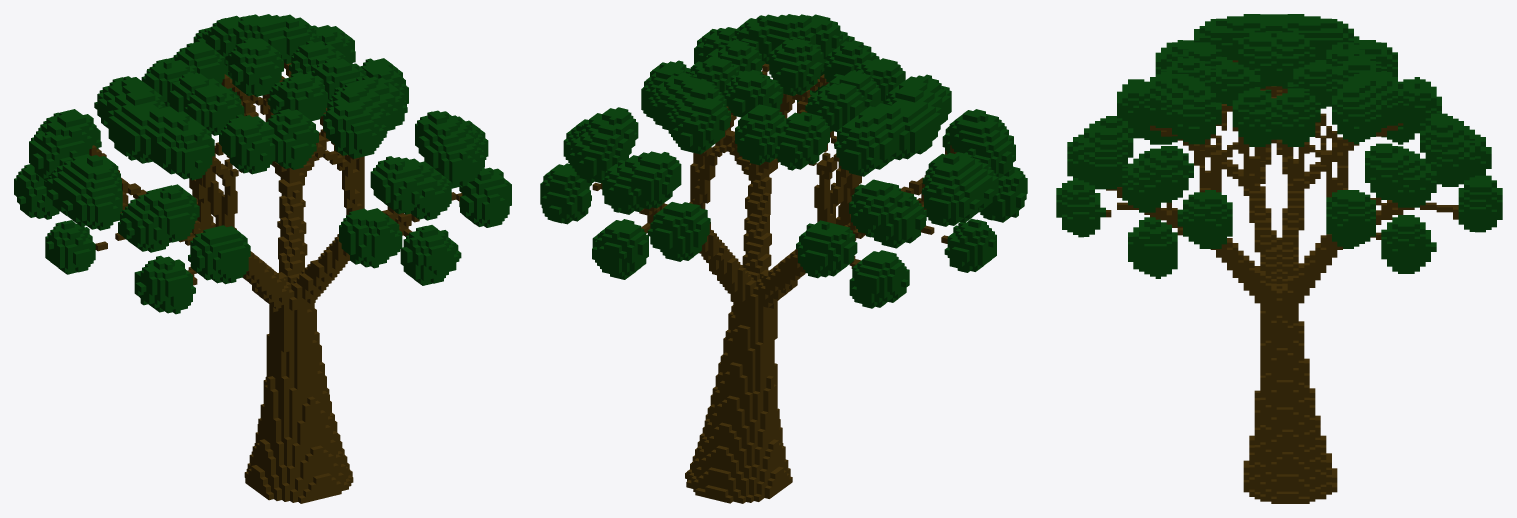
The model's file is TreeLOD-0-Tree3_0.obj.
3 views of the same model, side by side, from view 1: azimuth 30°, elevation 25°; view 2: azimuth 150°, elevation 25°; view 3: azimuth 270°, elevation 25° (orthographic). The views are drawn at different scales.
Visible parts, largest first — view 1: Tree3_0; view 2: Tree3_0; view 3: Tree3_0.
Part boxes in pixels (<box>): Tree3_0: <box>14,14,511,503</box>; Tree3_0: <box>540,14,1027,503</box>; Tree3_0: <box>1056,14,1502,503</box>.
Bounding box in the file's own units: 7.7 × 8.1 × 8.1.
1 material, 1 textured.
